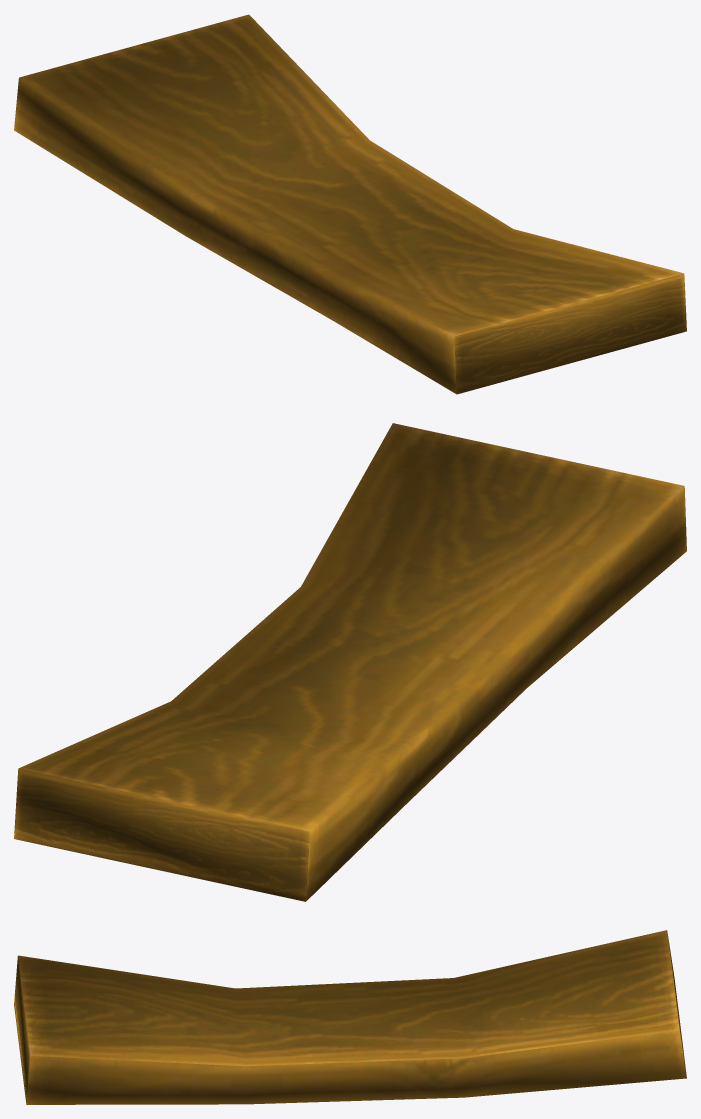
File: HTOWN01_BAGENDBENCH.fbx
3 renders of one model, top to bottom at view 1: azimuth 30°, elevation 25°; view 2: azimuth 150°, elevation 25°; view 3: azimuth 270°, elevation 25°, orthographic. The views are drawn at different scales.
Visible parts, largest first — view 1: HTOWN01_BAGENDBENCH; view 2: HTOWN01_BAGENDBENCH; view 3: HTOWN01_BAGENDBENCH.
Boxes of the visible parts, bbox=[...] form: HTOWN01_BAGENDBENCH: bbox=[14, 14, 686, 394]; HTOWN01_BAGENDBENCH: bbox=[14, 423, 686, 901]; HTOWN01_BAGENDBENCH: bbox=[14, 930, 686, 1104].
Bounding box in the file's own units: 8543 × 2174 × 19201.
Materials: 1 (1 with a texture image).
